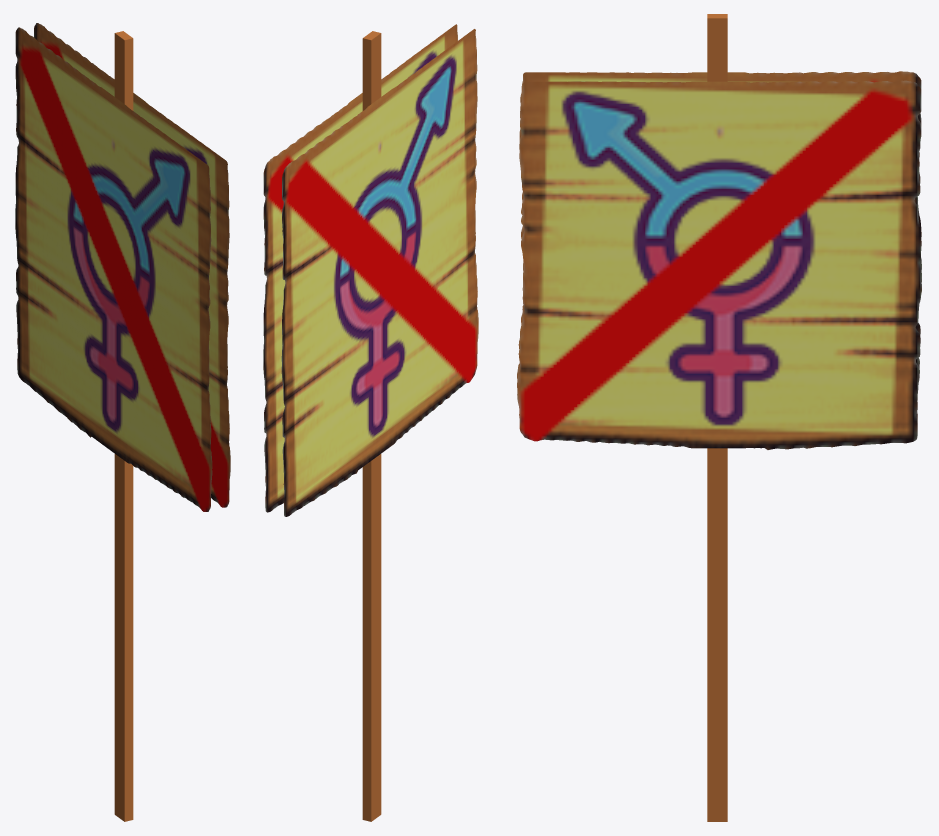
Rendered from panneau.fbx.
3 renders of one model, left to right at view 1: azimuth 30°, elevation 25°; view 2: azimuth 150°, elevation 25°; view 3: azimuth 270°, elevation 25°, orthographic. The views are drawn at different scales.
Parts seen in each view (by area): view 1: Cube.001; view 2: Cube.001; view 3: Cube.001.
Boxes of the visible parts, x1,y1,x2,y2 form: Cube.001: (15,23,230,821); Cube.001: (263,24,478,821); Cube.001: (517,14,921,821).
Bounding box in the file's own units: 0.1055 × 4.28 × 2.
1 material, 1 textured.
